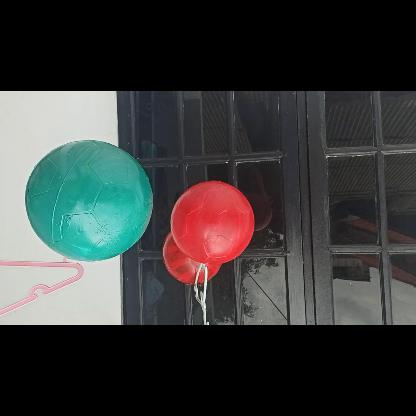red_ball: (174, 182, 257, 266)
